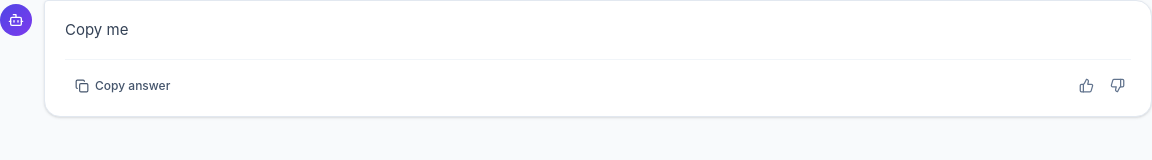
Test: copy answer › says so when the browser blocks clipboard access (it does not pretend to copy)
The width and height of the screenshot is (1152, 160).
Click the button "Copy answer".
click(123, 86)  # box [65,72,180,100]
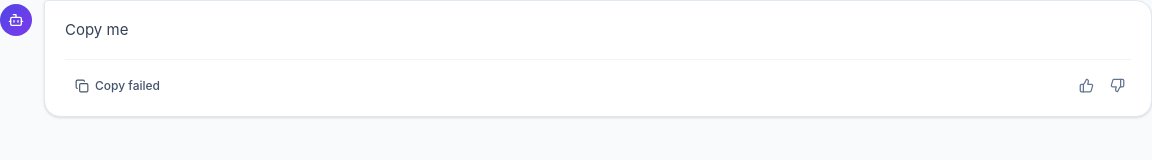
Expected: the button "Copy failed" is shown, [65,72,170,100]
